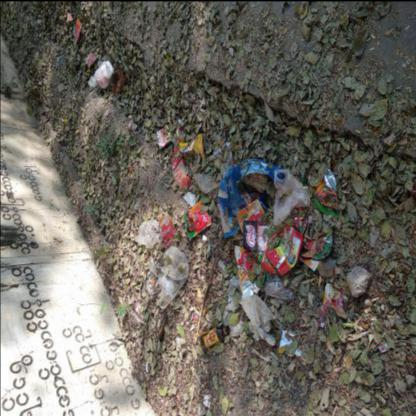Bottle cap: (199, 324, 229, 348)
Plastic bag - wrapper: (218, 158, 284, 237), (146, 245, 189, 309), (292, 206, 333, 270), (272, 168, 310, 224), (266, 224, 303, 274), (240, 293, 275, 344), (314, 166, 339, 216), (234, 244, 260, 292), (183, 199, 211, 239), (236, 197, 268, 231), (169, 142, 192, 188), (261, 228, 284, 274), (264, 271, 294, 302), (242, 220, 270, 250), (179, 132, 206, 160), (137, 219, 163, 248), (222, 301, 243, 335), (323, 283, 349, 310), (88, 60, 113, 88), (157, 212, 176, 248), (279, 329, 303, 356), (211, 141, 233, 165), (194, 172, 220, 192), (318, 297, 334, 326), (175, 125, 189, 156), (193, 288, 205, 322), (249, 192, 269, 210), (156, 126, 170, 147), (72, 16, 81, 42), (86, 51, 98, 68), (378, 336, 390, 352), (131, 300, 140, 320), (241, 287, 253, 299), (229, 274, 241, 285), (218, 258, 226, 270), (67, 12, 73, 26)
Unlabeled litter: (182, 188, 196, 206)
